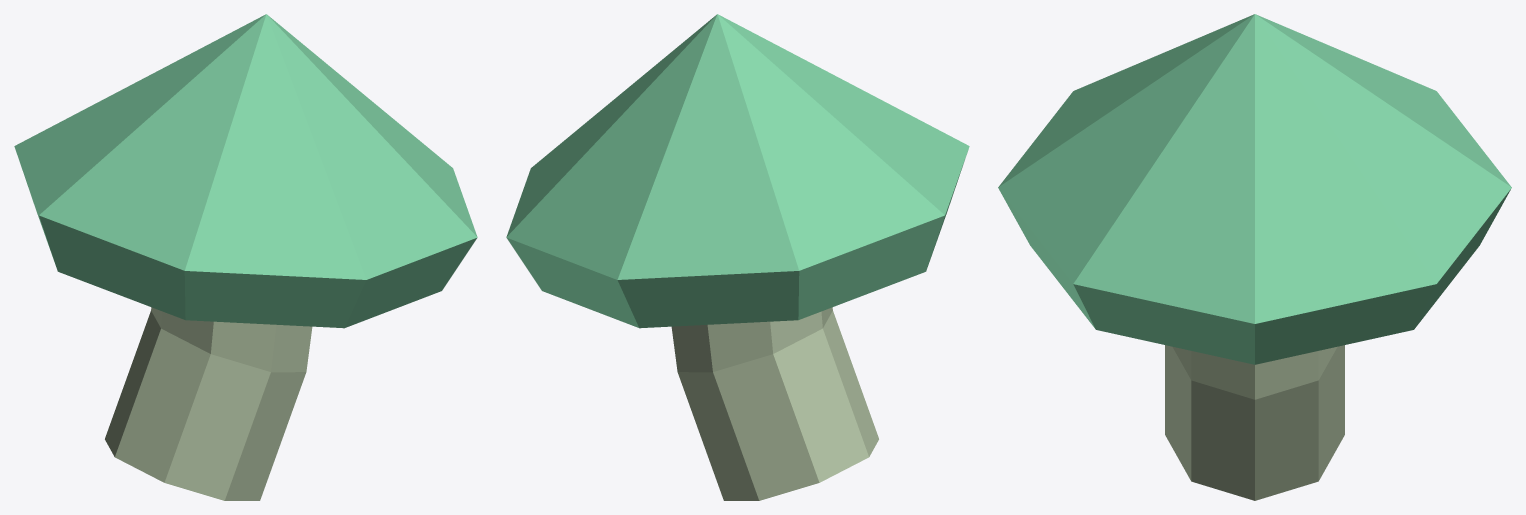
File: bungus.glb
3 renders of one model, left to right at view 1: azimuth 30°, elevation 25°; view 2: azimuth 150°, elevation 25°; view 3: azimuth 270°, elevation 25°, orthographic. The views are drawn at different scales.
Parts seen in each view (by area): view 1: Cylinder; view 2: Cylinder; view 3: Cylinder.
Boxes of the visible parts, x1=… form: Cylinder: x1=14, y1=14, x2=477, y2=500; Cylinder: x1=506, y1=14, x2=969, y2=500; Cylinder: x1=998, y1=14, x2=1511, y2=500.
Size of the model in its own units: 0.3366 by 0.3608 by 0.3392.
